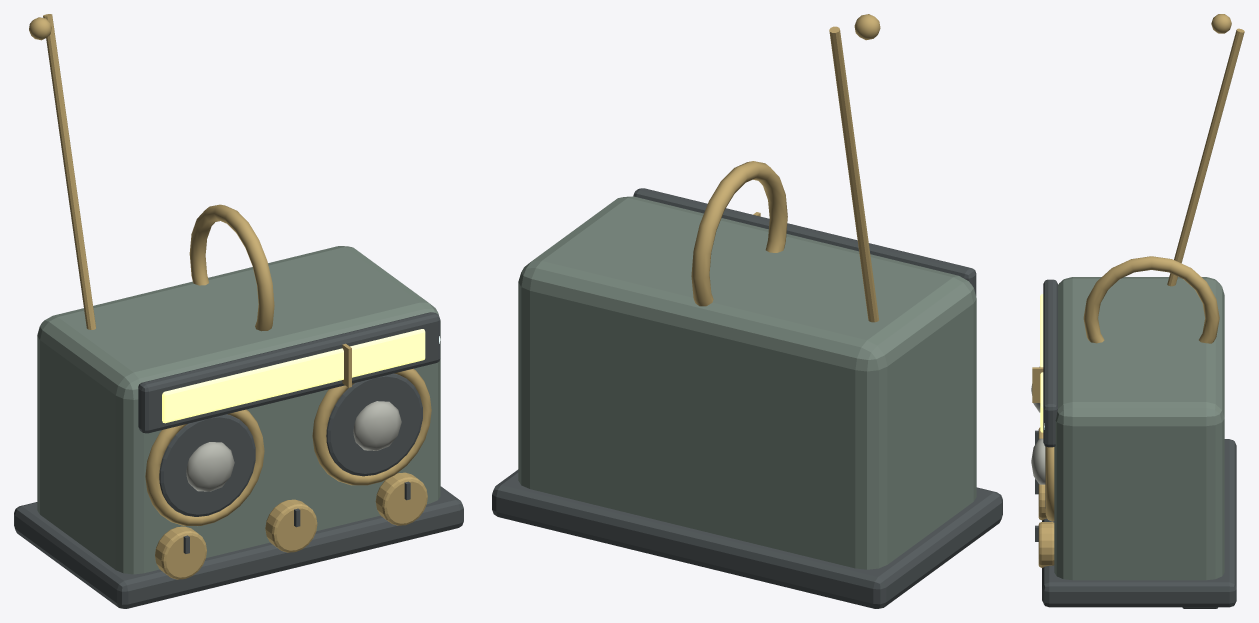
File: radio_station.glb
3 views of the same model, side by side, from view 1: azimuth 30°, elevation 25°; view 2: azimuth 150°, elevation 25°; view 3: azimuth 270°, elevation 25° (orthographic). The views are drawn at different scales.
Parts seen in each view (by area): view 1: radio-station; view 2: radio-station; view 3: radio-station.
Part boxes in pixels (x1,y1,x2,y2): radio-station: [14, 14, 463, 608]; radio-station: [492, 14, 1002, 608]; radio-station: [1031, 14, 1244, 608].
Bounding box in the file's own units: 0.58 × 0.833 × 0.3511.
